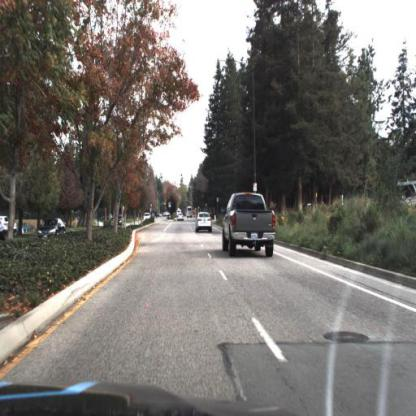car: (222, 190, 278, 258), (35, 217, 65, 237), (195, 207, 214, 235), (110, 212, 125, 228)
